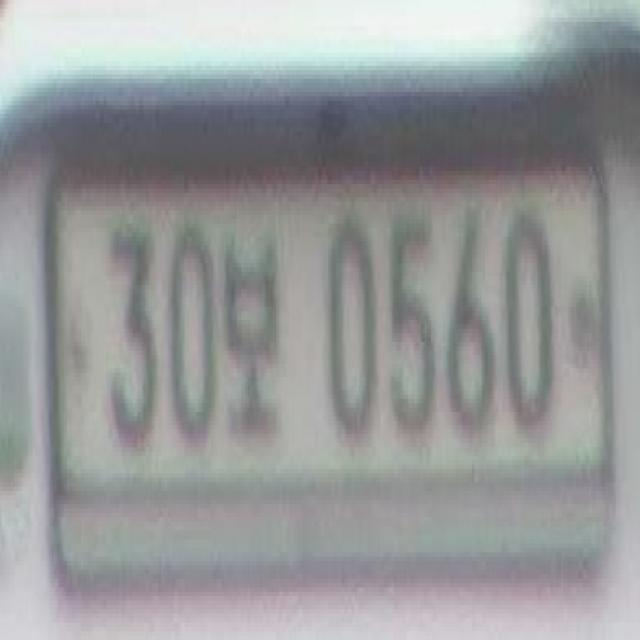0: (328, 211, 377, 438), (168, 219, 217, 443), (502, 206, 554, 416)
3: (108, 224, 158, 438)
5: (390, 206, 439, 438)
6: (448, 202, 497, 438)
bo: (219, 228, 282, 447)
license_plate: (41, 123, 619, 556)
